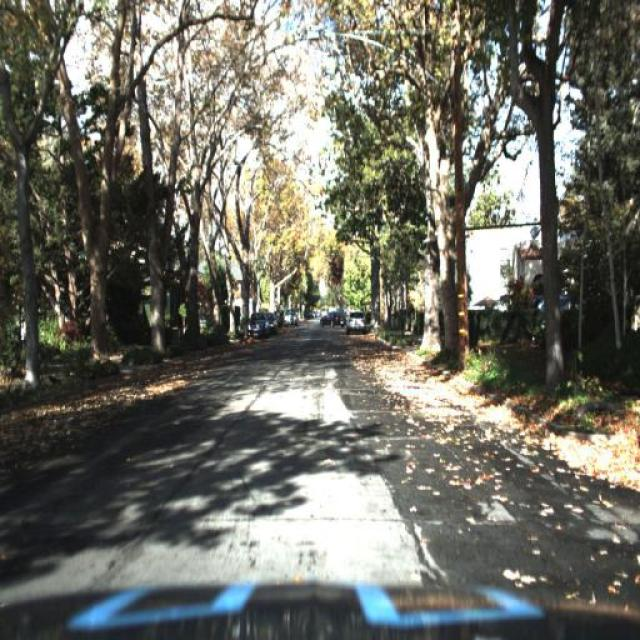car: (245, 307, 271, 341), (345, 307, 370, 339), (317, 308, 344, 329), (265, 308, 277, 339)
